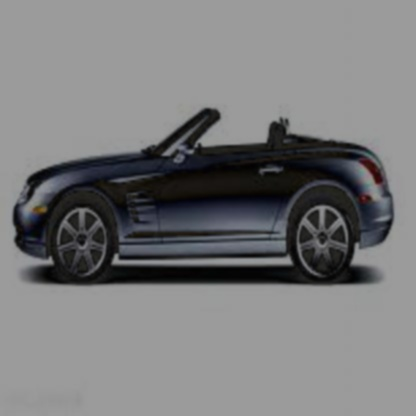Vehicle: (16, 113, 397, 286)
